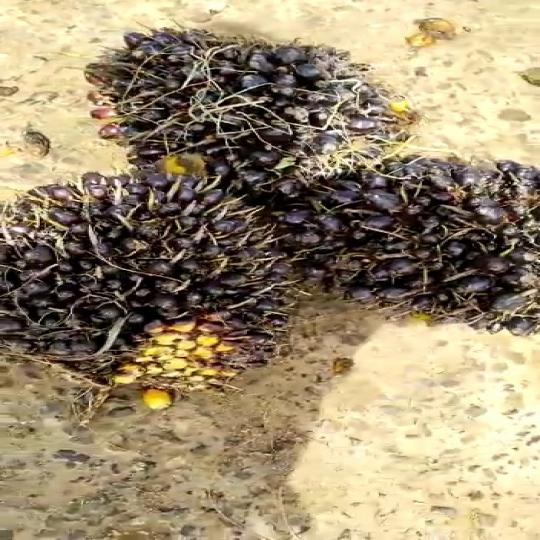mentah: (0, 163, 335, 414), (260, 134, 540, 360), (89, 24, 401, 188)
